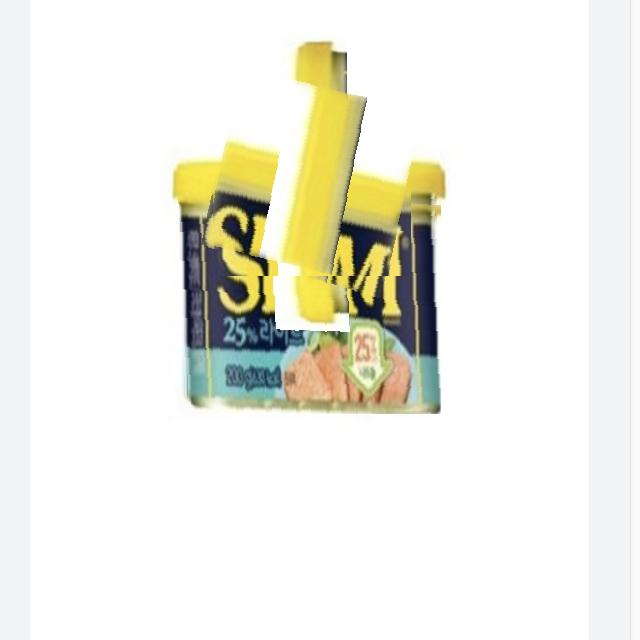recyclable: (180, 188, 441, 414), (209, 76, 411, 276)
